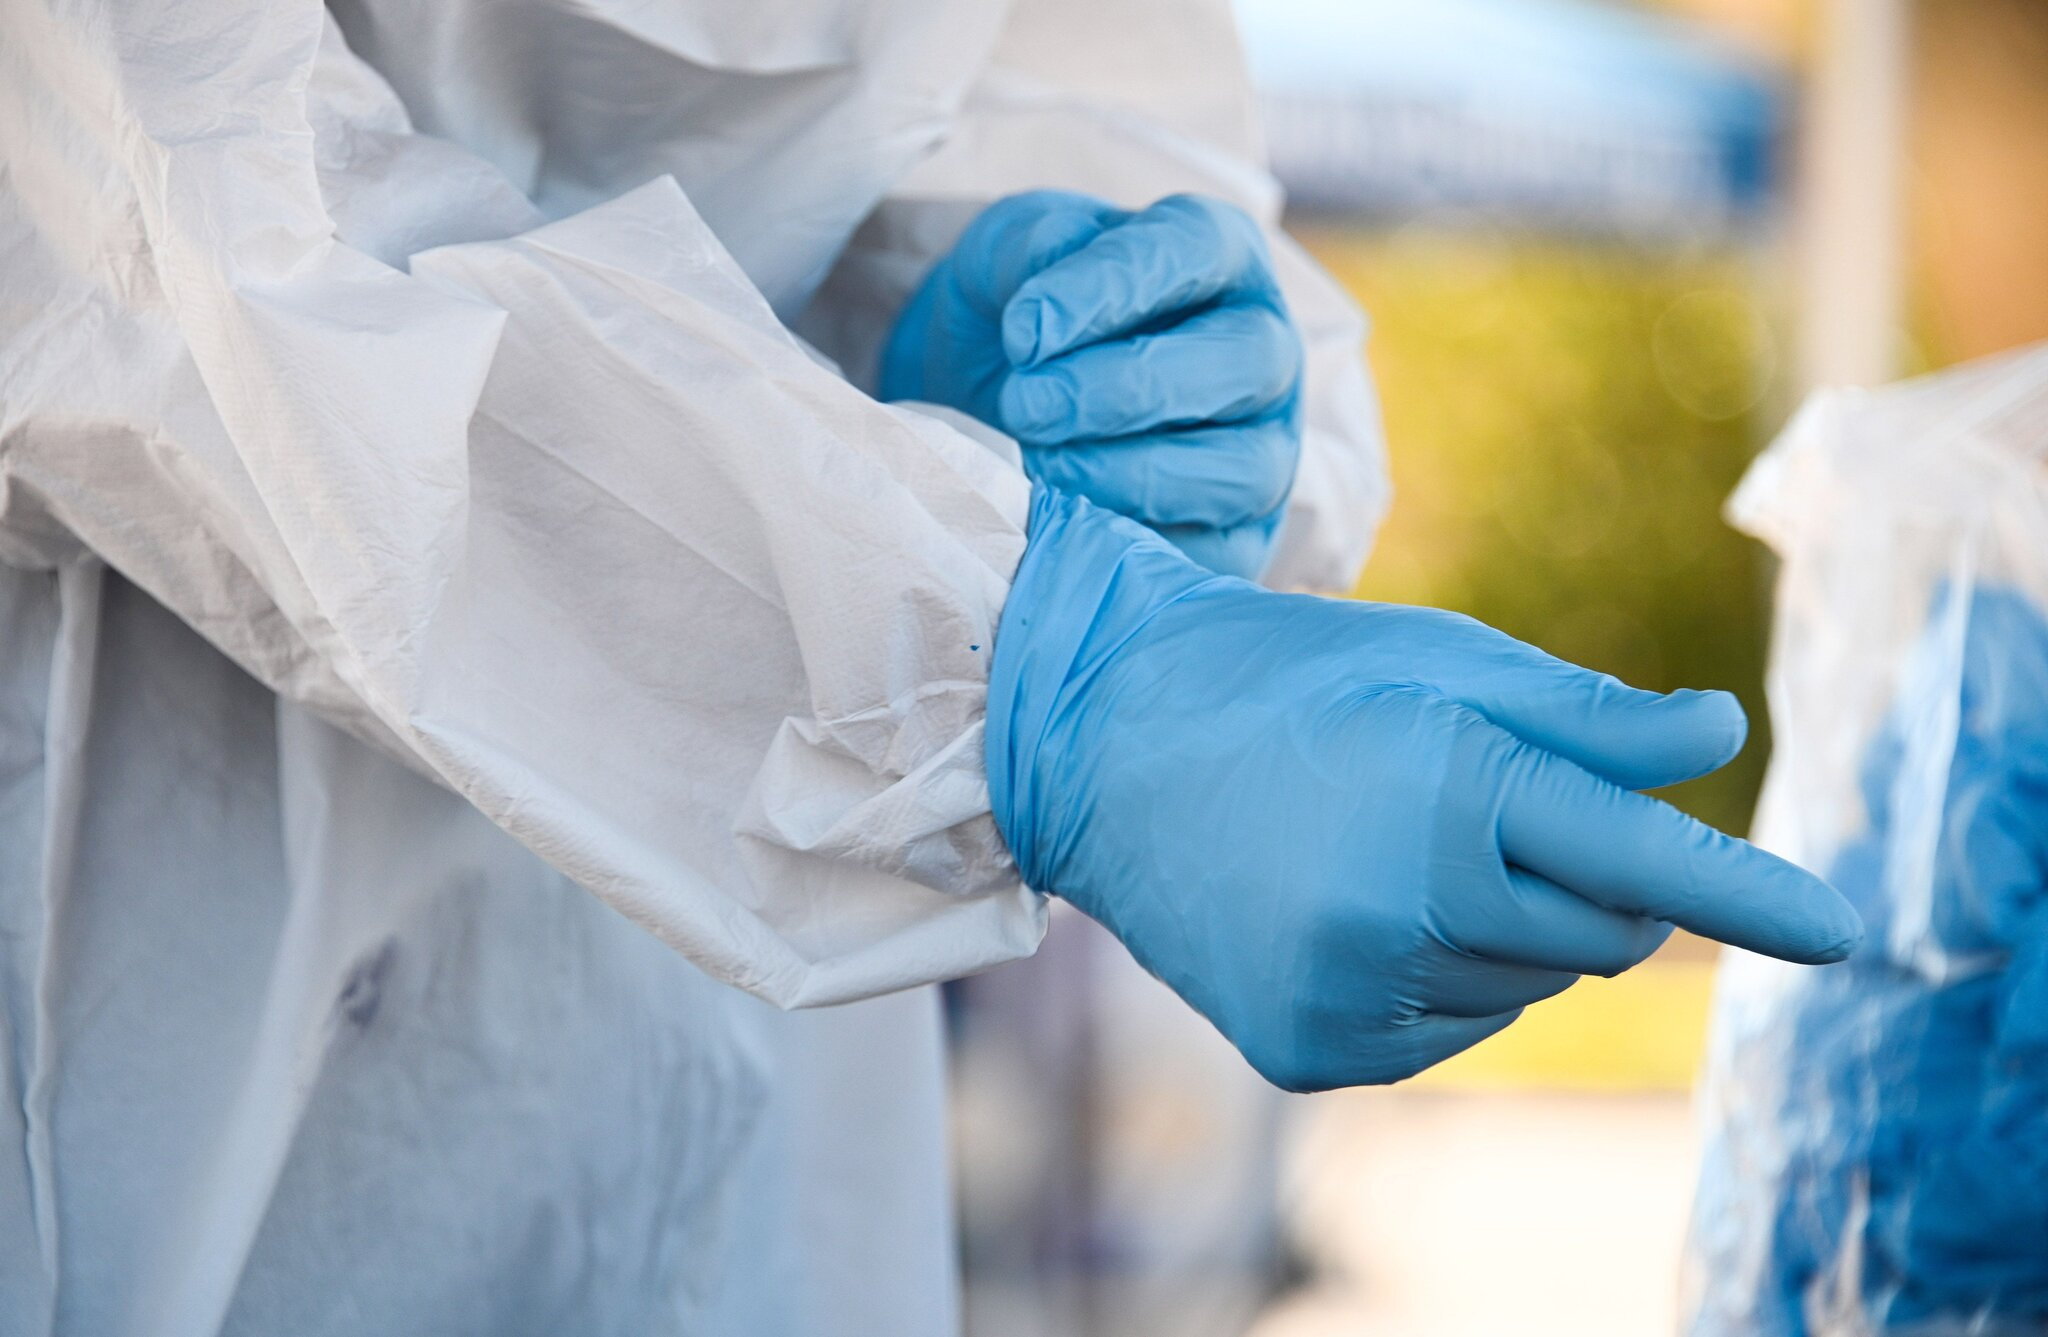Gloves: (891, 521, 1870, 1088), (875, 142, 1302, 580)
